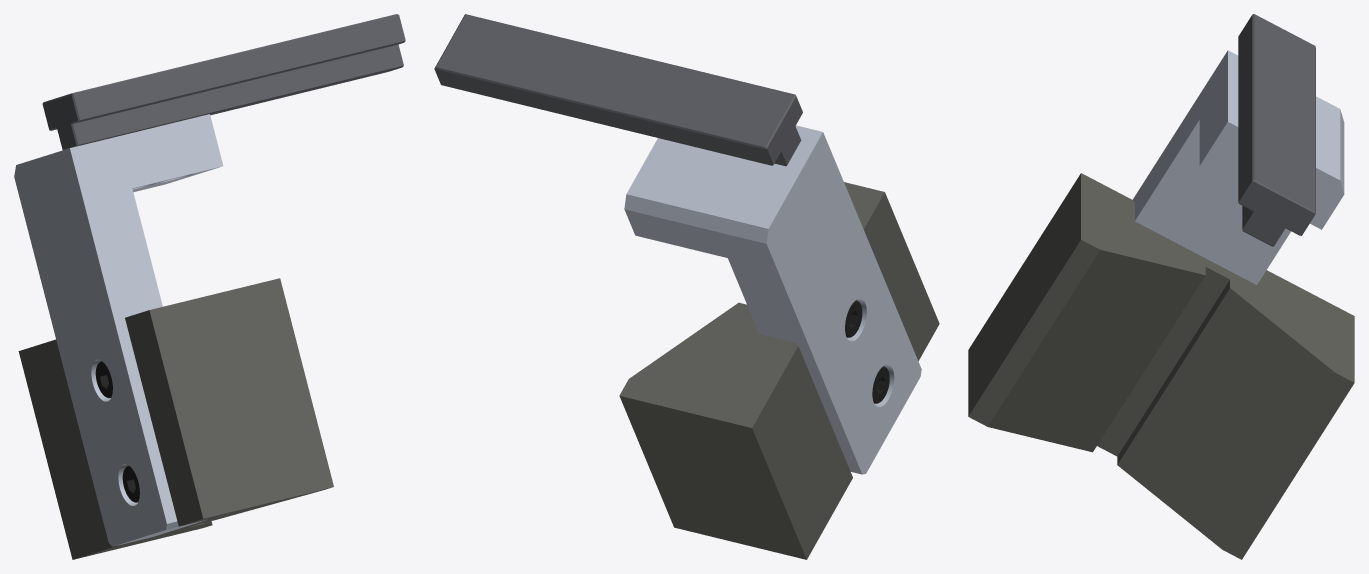
The model's file is gripper_right.dae.
3 views of the same model, side by side, from view 1: azimuth 30°, elevation 25°; view 2: azimuth 150°, elevation 25°; view 3: azimuth 270°, elevation 25° (orthographic). The views are drawn at different scales.
Parts seen in each view (by area): view 1: Body1.2196; view 2: Body1.2196; view 3: Body1.2196.
Part boxes in pixels (bbox=[...]): Body1.2196: bbox=[14, 14, 405, 559]; Body1.2196: bbox=[434, 14, 939, 559]; Body1.2196: bbox=[968, 14, 1354, 559].
Bounding box in the file's own units: 0.073 × 0.0685 × 0.0943.
